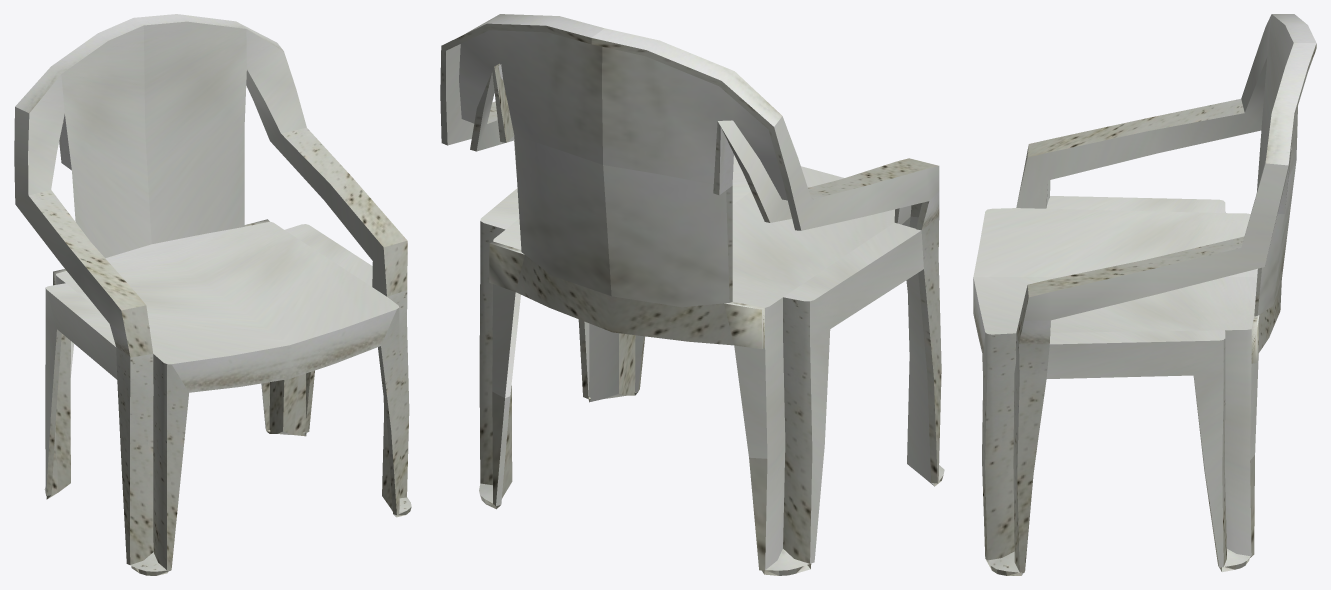
The model's file is PROP_cadeira.glb.
3 renders of one model, left to right at view 1: azimuth 30°, elevation 25°; view 2: azimuth 150°, elevation 25°; view 3: azimuth 270°, elevation 25°, orthographic. The views are drawn at different scales.
Parts seen in each view (by area): view 1: Cube.002; view 2: Cube.002; view 3: Cube.002.
Boxes of the visible parts, x1,y1,x2,y2 form: Cube.002: [14, 14, 411, 575]; Cube.002: [440, 14, 944, 575]; Cube.002: [973, 14, 1316, 575].
Size of the model in its own units: 0.5972 by 0.8257 by 0.5573.
Materials: 1 (1 with a texture image).
